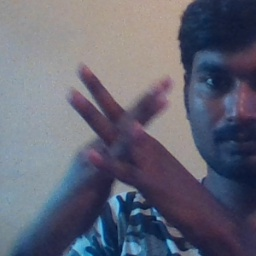W: (60, 53, 186, 204)
